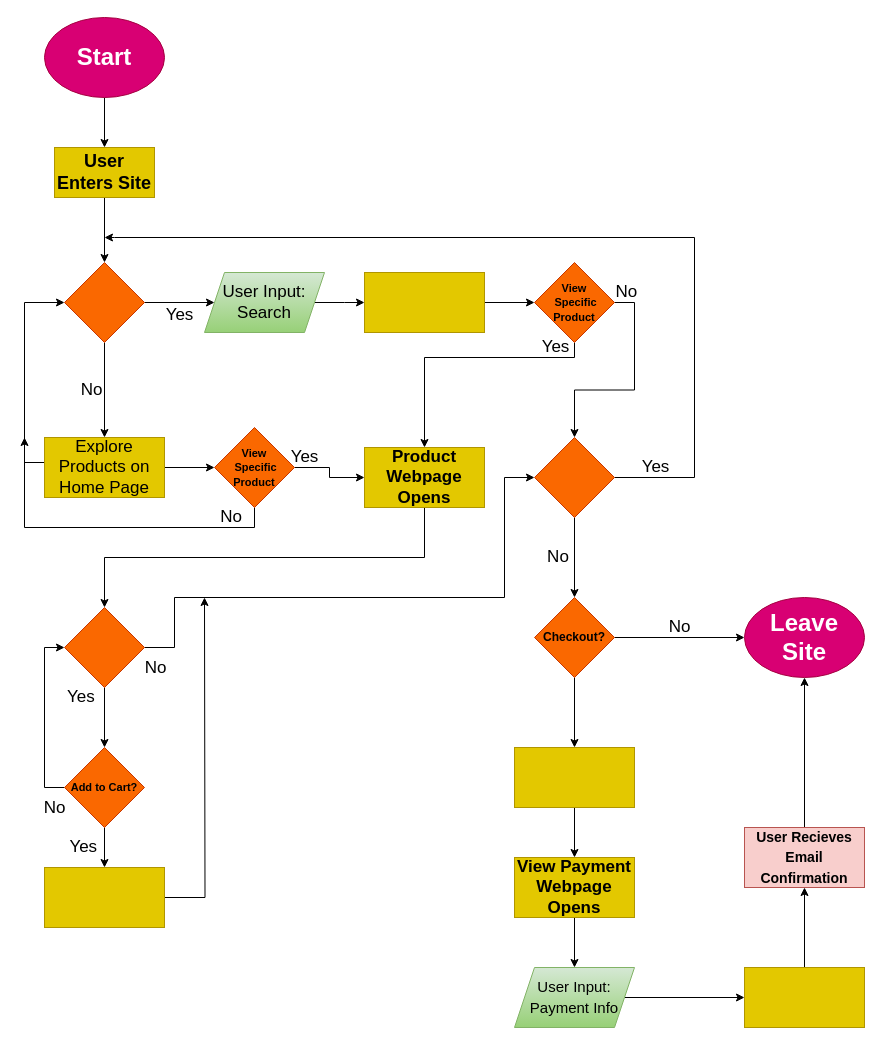
Image size: 882x1045. Some labels were removed from this diagram. Here are the shapes that lost their labels. From the top down, the centre of each, then its label:
the point at 104,302: Search Products
the point at 424,302: Explore Products from Search
the point at 574,477: Search again?
the point at 104,647: Continue Shopping?
the point at 574,777: View Cart Webpage Opens
the point at 104,897: User Notified Cart Updated
the point at 804,997: Order Confirmation Screen Opens
